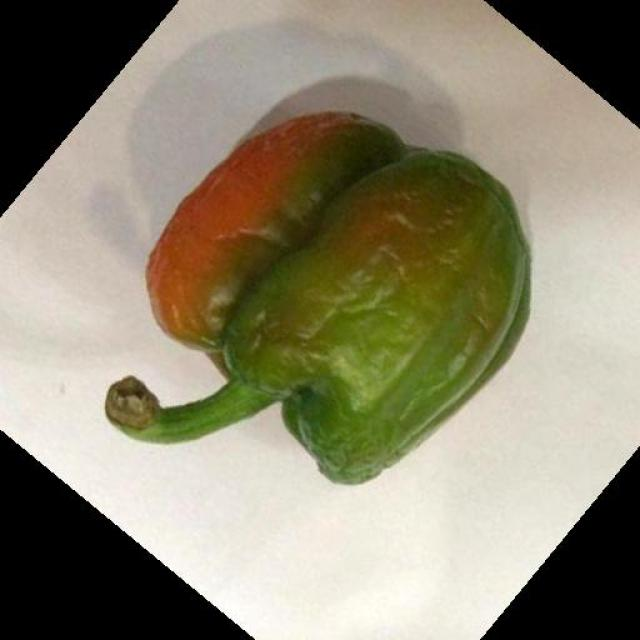Stale_Capsicum: (124, 90, 529, 468)
